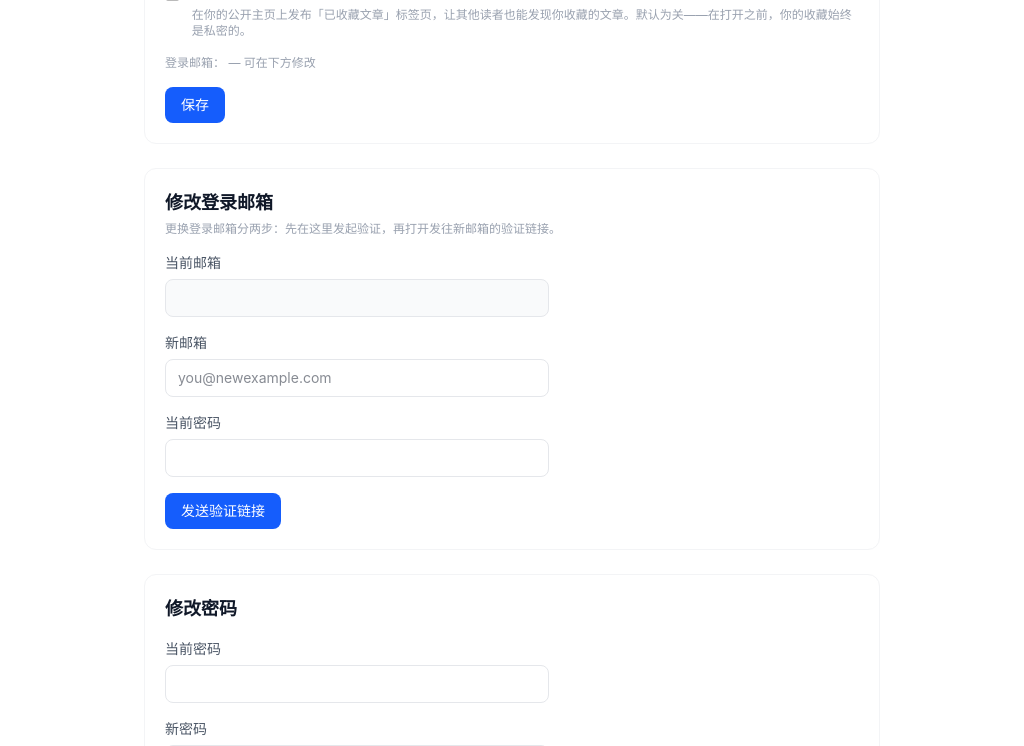
Test case: Account settings page › email change (DEC-357, TASK-404) › clears a surfaced error as soon as the reader edits the fields
(page scrolled)
Step 1. Type "taken@example.com" into the field labelled "新邮箱" → (357, 378), box [165,359,549,397]
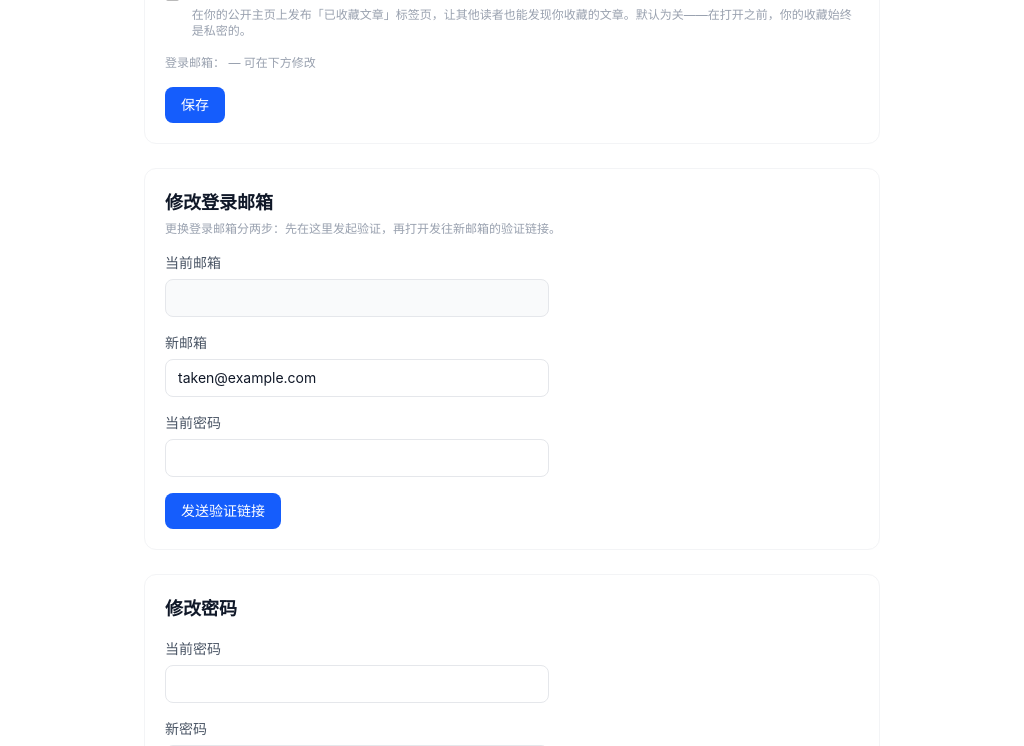
Step 2. Type "readerpass123" into the password field labelled "当前密码" below "当前邮箱" → (357, 458), box [165,439,549,477]
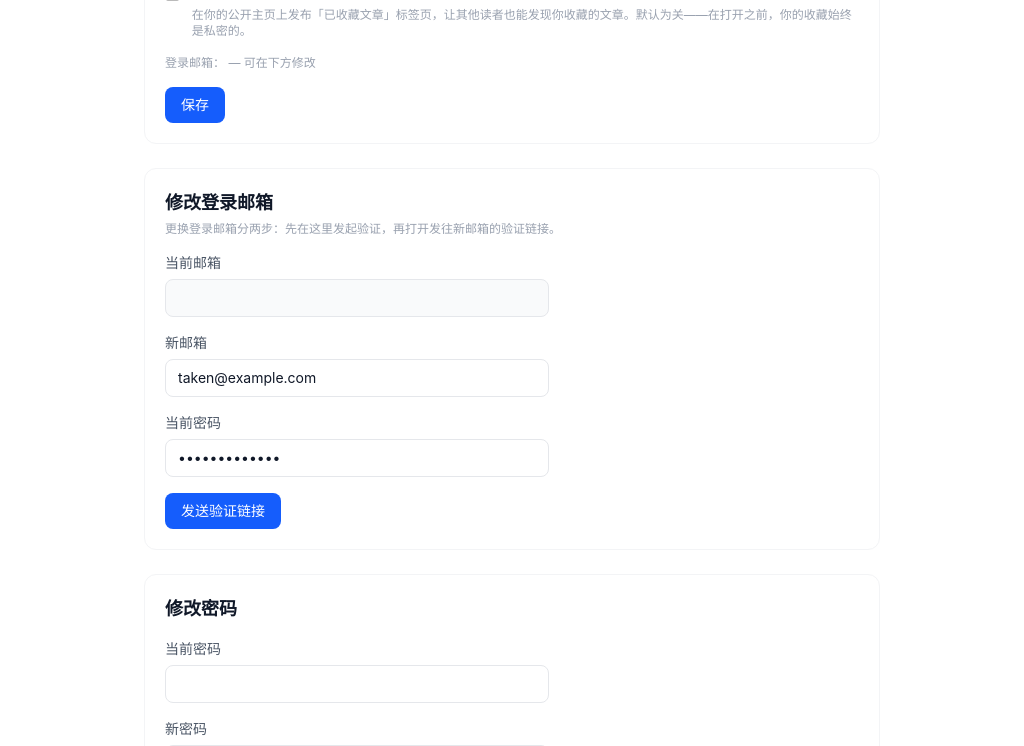
Step 3. Submit the form "当前邮箱 新邮箱 当前密码 发送验证链接", box [165,253,549,529]
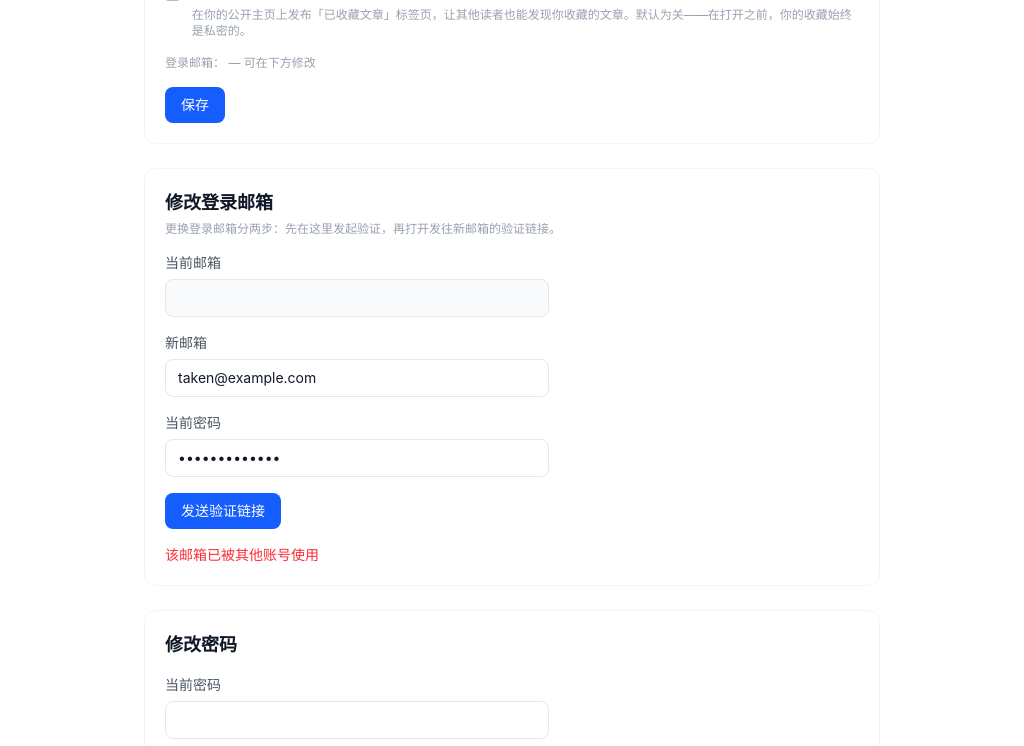
Expected: the text "该邮箱已被其他账号使用" is shown, [165,546,319,563]
Step 4. Replace the text in the field labelled "新邮箱" with "free@example.com" → (357, 378), box [165,359,549,397]
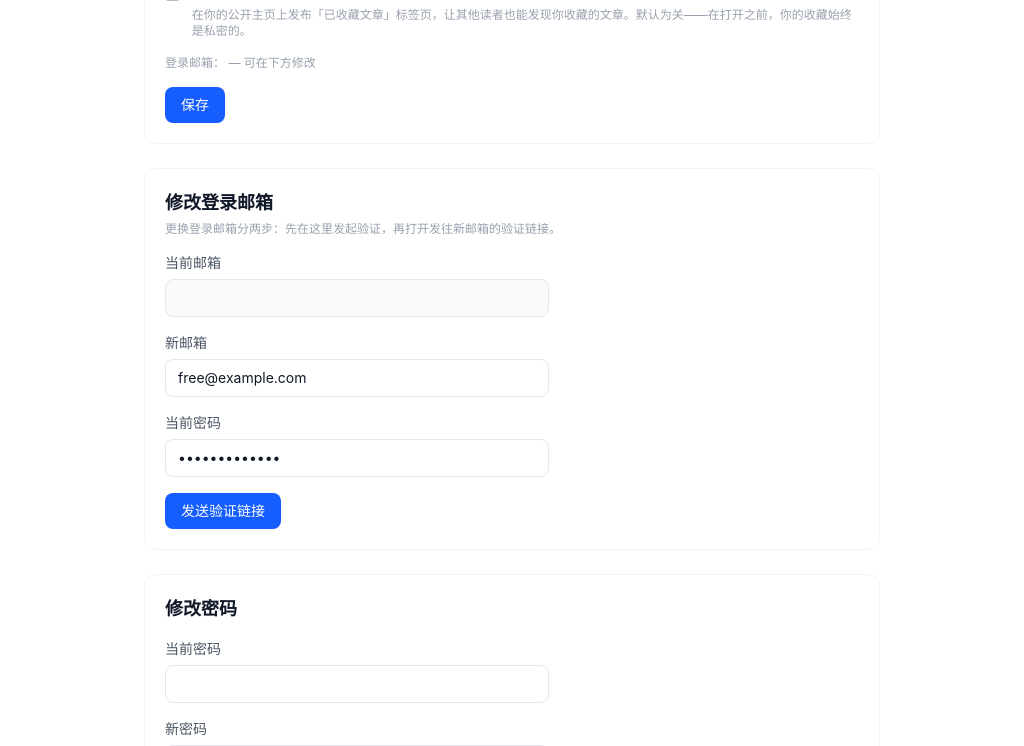
Expected: the text "该邮箱已被其他账号使用" is gone
